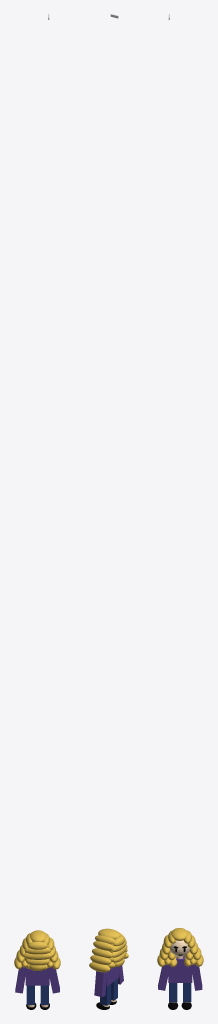
The model's file is MommaSweater.fbx.
The picture shows the model from 3 angles, left to right: view 1: azimuth 90°, elevation 25°; view 2: azimuth 150°, elevation 25°; view 3: azimuth 270°, elevation 25°; orthographic projection.
Parts seen in each view (by area): view 1: Sphere.005, Cube.006, Cube.002, Cube.003; view 2: Sphere.005, Cube.006, Cube.002; view 3: Sphere.005, Cube.006, Head, Cube.002, Cube.003.
Part boxes in pixels (box(x1,y1,x2,y2)): Sphere.005: box(14, 930, 60, 970); Cube.006: box(15, 967, 59, 993); Cube.002: box(26, 985, 34, 1004); Cube.003: box(40, 985, 48, 1004); Sphere.005: box(89, 928, 128, 972); Cube.006: box(94, 965, 123, 997); Cube.002: box(100, 984, 110, 1005); Sphere.005: box(157, 928, 203, 967); Cube.006: box(158, 956, 202, 990); Head: box(169, 940, 190, 956); Cube.002: box(183, 983, 191, 1002); Cube.003: box(169, 983, 177, 1002).
Bounding box in the file's own units: 240 × 9089 × 385.
